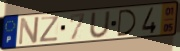4: (142, 6, 158, 34)
7: (69, 12, 86, 42)
D: (117, 9, 138, 38)
N: (17, 15, 40, 47)
U: (88, 10, 112, 39)
Z: (38, 15, 60, 44)
